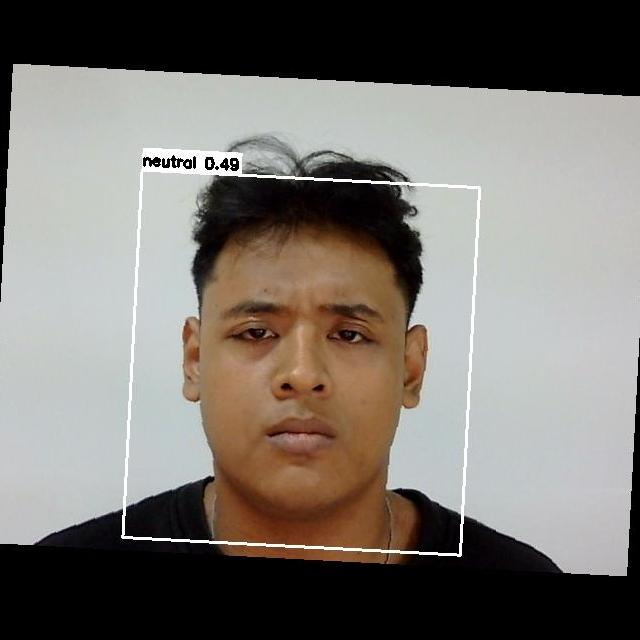Angry: (203, 270, 407, 476)
